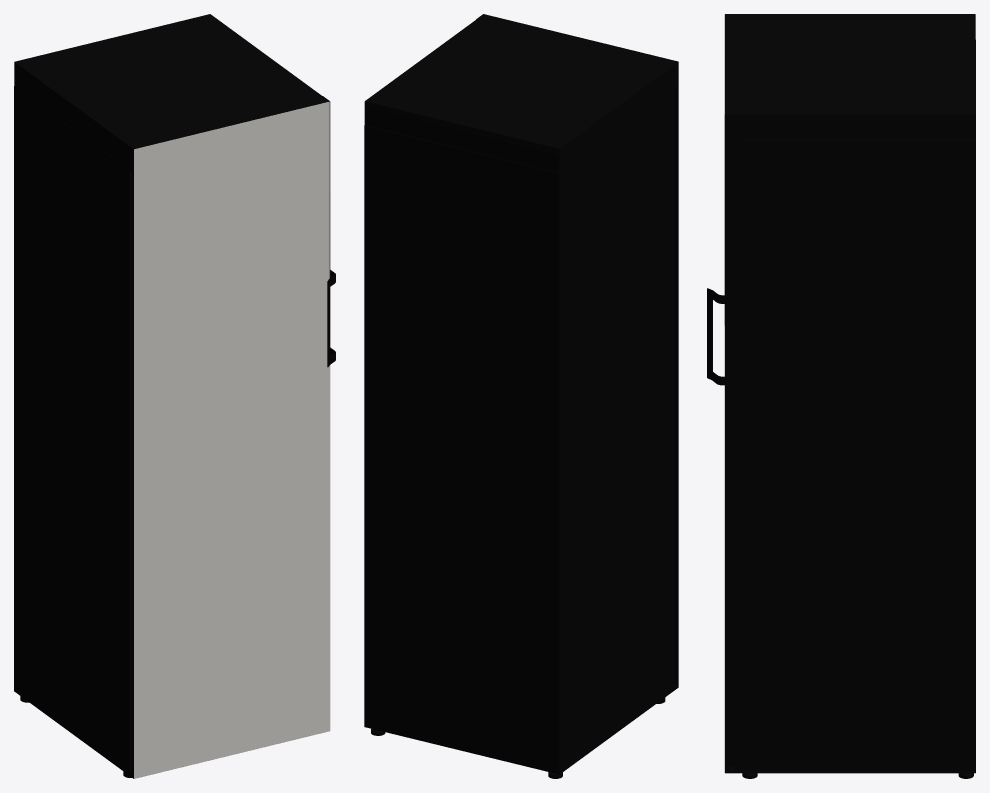
File: electronic_46_01.001.fbx
The picture shows the model from 3 angles, left to right: view 1: azimuth 30°, elevation 25°; view 2: azimuth 150°, elevation 25°; view 3: azimuth 270°, elevation 25°; orthographic projection. The views are drawn at different scales.
Visible parts, largest first — view 1: electronic_46_01.001; view 2: electronic_46_01.001; view 3: electronic_46_01.001.
Part boxes in pixels (box(x1,y1,x2,y2)): electronic_46_01.001: box(14, 14, 335, 778); electronic_46_01.001: box(364, 14, 678, 778); electronic_46_01.001: box(707, 14, 975, 778).
Bounding box in the file's own units: 60.92 × 185 × 67.75.
Materials: 1 (1 with a texture image).
